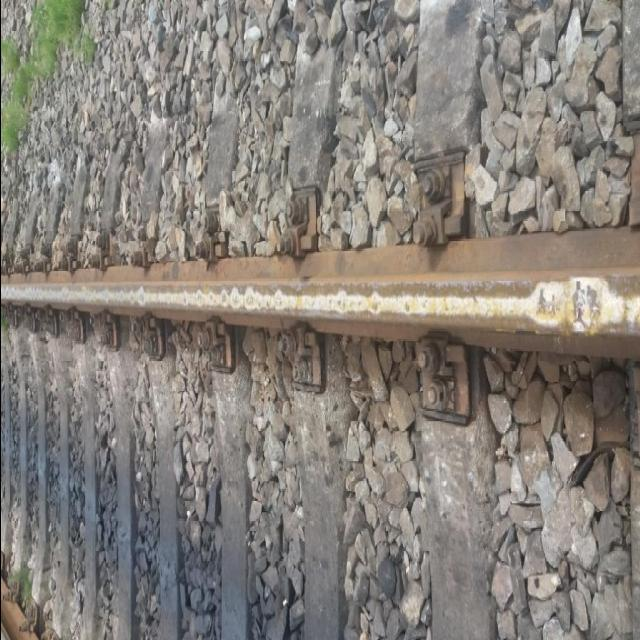head_checks_high: (526, 276, 618, 335), (204, 284, 243, 317), (130, 284, 149, 312), (269, 290, 290, 313)
